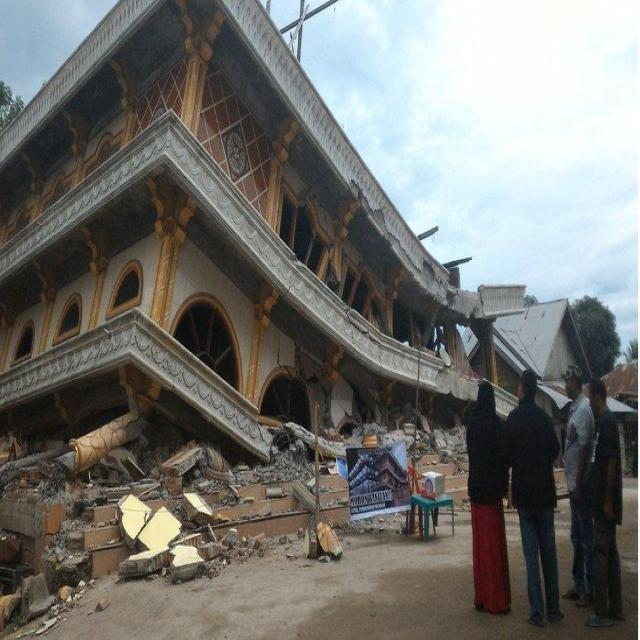damage: (0, 418, 465, 620), (263, 79, 499, 458)
